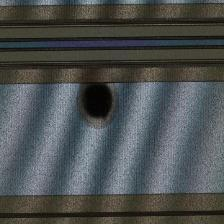PARTICLE: (69, 73, 129, 133)
